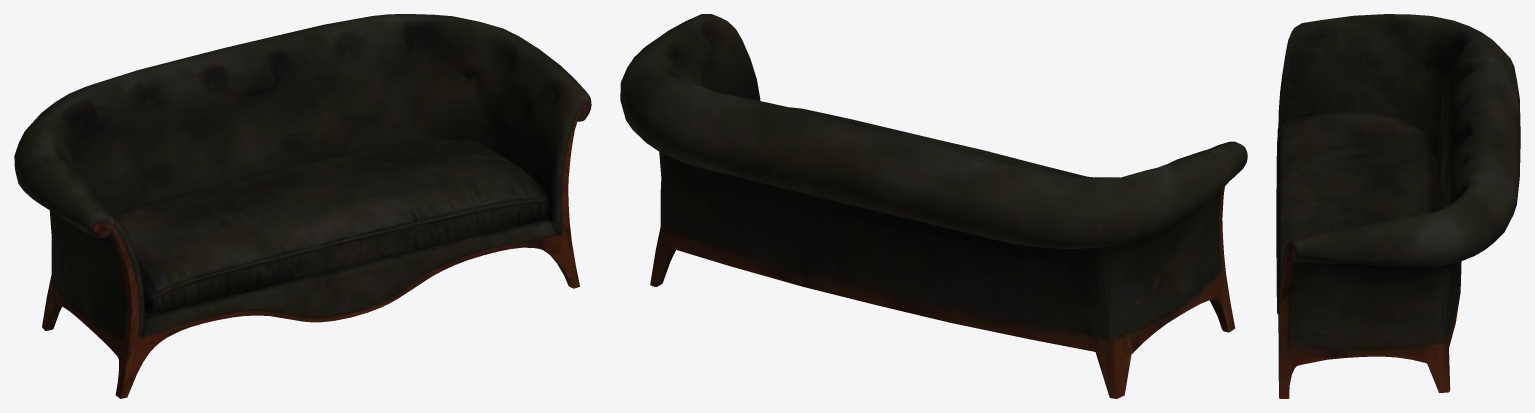
The model's file is hq-sofa.glb.
3 views of the same model, side by side, from view 1: azimuth 30°, elevation 25°; view 2: azimuth 150°, elevation 25°; view 3: azimuth 270°, elevation 25° (orthographic). The views are drawn at different scales.
Parts seen in each view (by area): view 1: sofa_02_Base, sofa_02_Seat; view 2: sofa_02_Base, sofa_02_Seat; view 3: sofa_02_Base, sofa_02_Seat.
Part boxes in pixels (x1,y1,x2,y2): sofa_02_Base: [14, 14, 591, 398]; sofa_02_Seat: [115, 139, 549, 314]; sofa_02_Base: [620, 14, 1247, 398]; sofa_02_Seat: [789, 107, 1086, 176]; sofa_02_Base: [1278, 14, 1520, 398]; sofa_02_Seat: [1276, 112, 1433, 314].
Bounding box in the file's own units: 1.81 × 0.7095 × 0.8178.
1 material, 1 textured.
